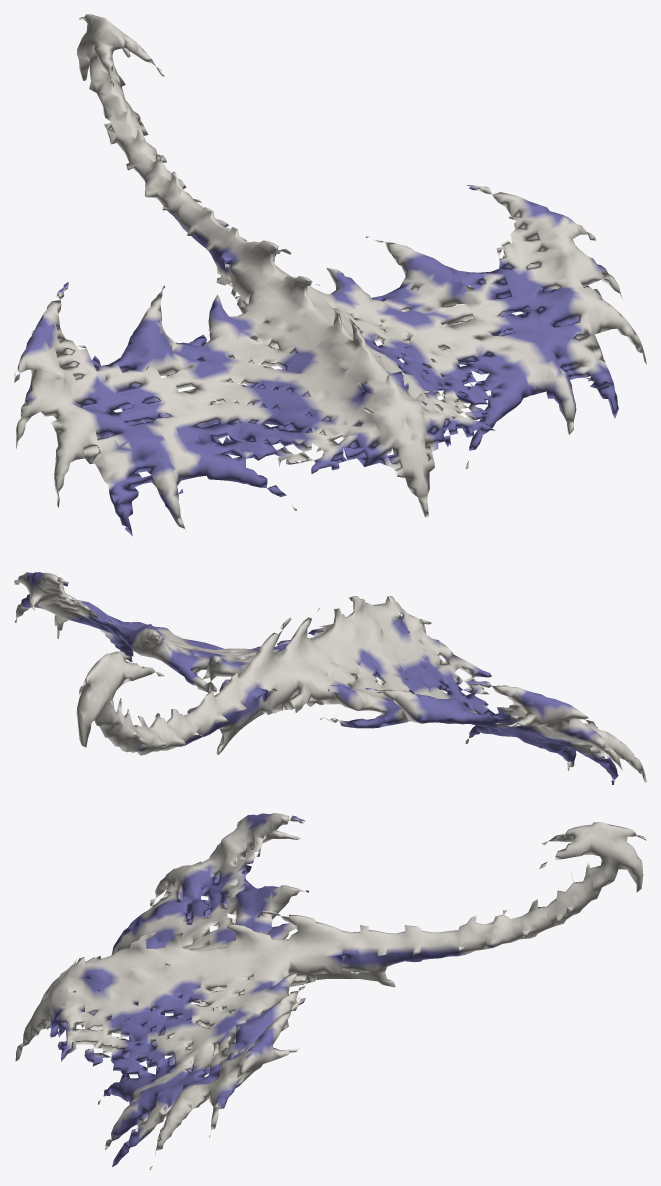
The model's file is mon3d_lo.glb.
The picture shows the model from 3 angles, top to bottom: view 1: azimuth 30°, elevation 25°; view 2: azimuth 150°, elevation 25°; view 3: azimuth 270°, elevation 25°; orthographic projection. The views are drawn at different scales.
Size of the model in its own units: 1.96 by 0.8267 by 1.94.
